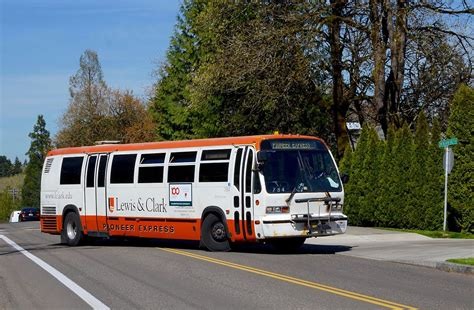bus: (42, 141, 346, 247)
